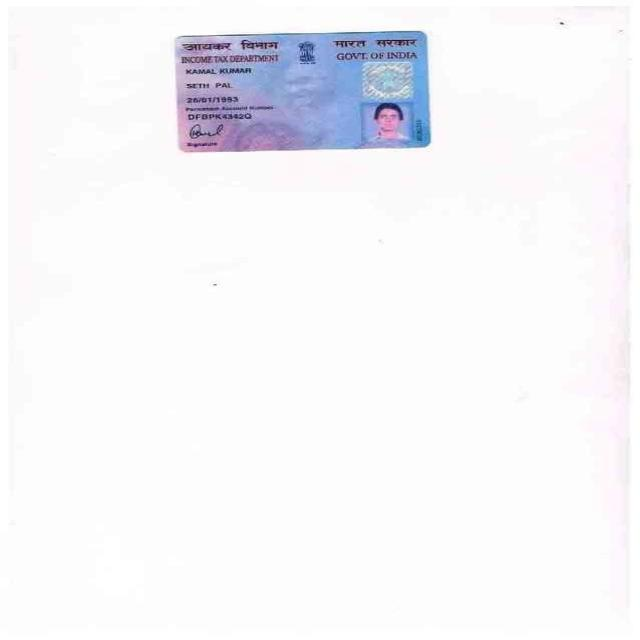pan_card: (177, 30, 430, 153)
